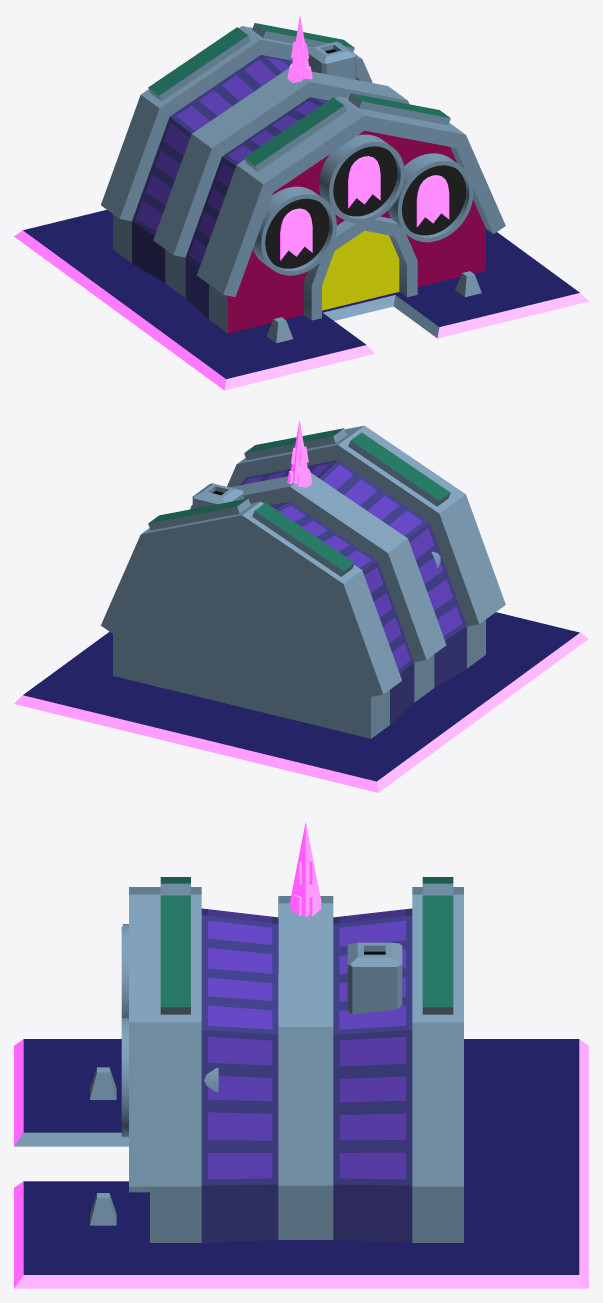
File: Lodge7.fbx
3 views of the same model, one above another, from view 1: azimuth 30°, elevation 25°; view 2: azimuth 150°, elevation 25°; view 3: azimuth 270°, elevation 25° (orthographic). The views are drawn at different scales.
Visible parts, largest first — view 1: lodge7; view 2: lodge7; view 3: lodge7.
Part boxes in pixels (x1,y1,x2,y2): lodge7: (14, 15, 588, 390); lodge7: (14, 419, 588, 792); lodge7: (14, 821, 588, 1288).
Size of the model in its own units: 412 by 274 by 412.
